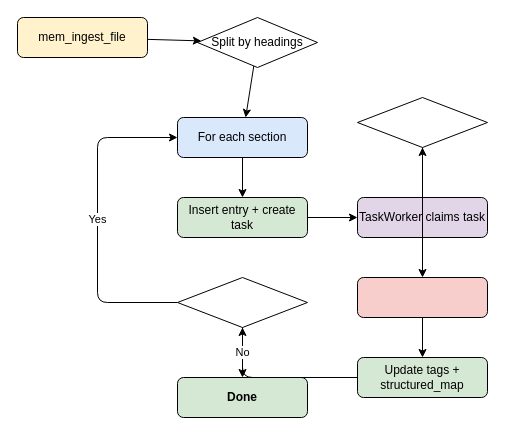
The diagram is 505 pixels wide and 435 high, and some of its shapes have lost their labels. The shapes that lost their labels are listed below. From the top down, each one's box as (x1, y1, x2, y2) in pixels, then its label:
(356, 96, 488, 148): Load prev context
(176, 276, 308, 328): More sections?
(356, 276, 488, 318): LLM analysis (full content + context)
